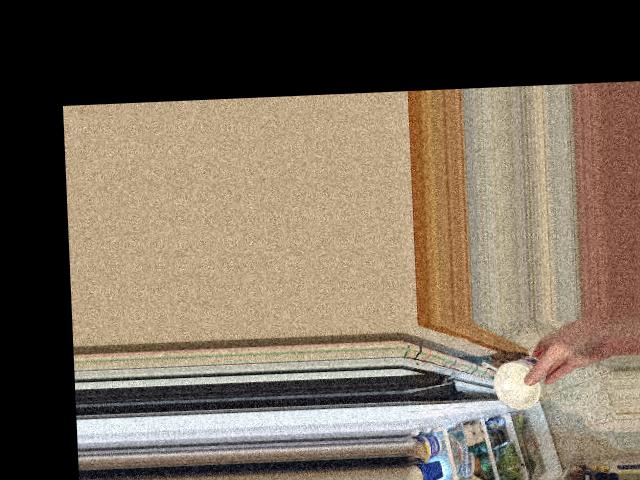cotage: (490, 348, 552, 411)
